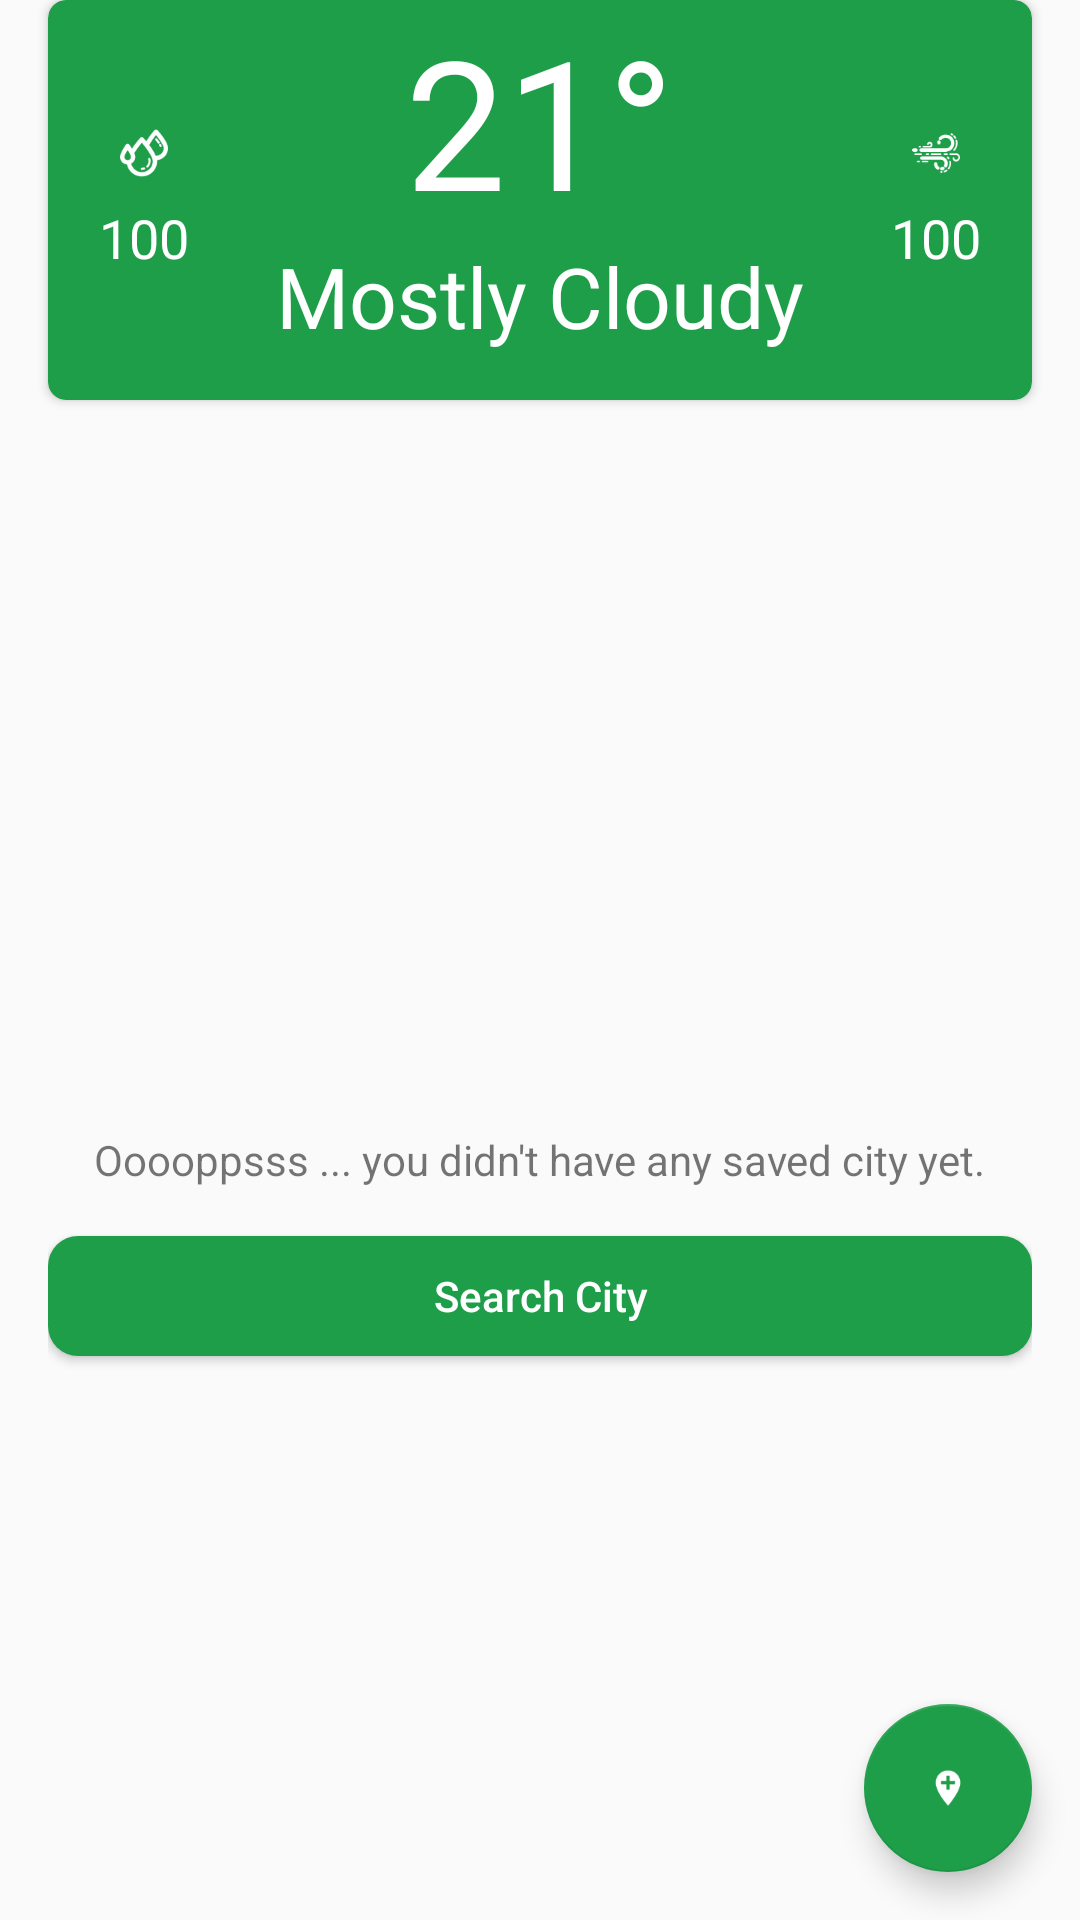

Point at icon controls on the screen. Image size 1080 x 1920, points as (x,y).
add location: (948,1788)
humidity: (144,153)
wind: (936,153)
